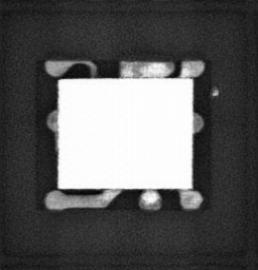DIE_INK: (211, 86, 220, 96)
